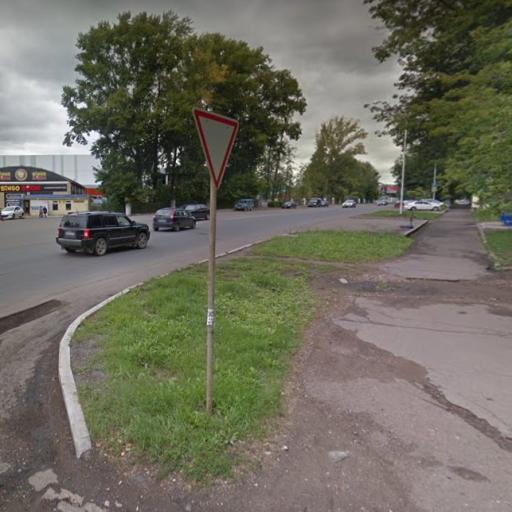traffic_sign: (188, 101, 243, 192)
